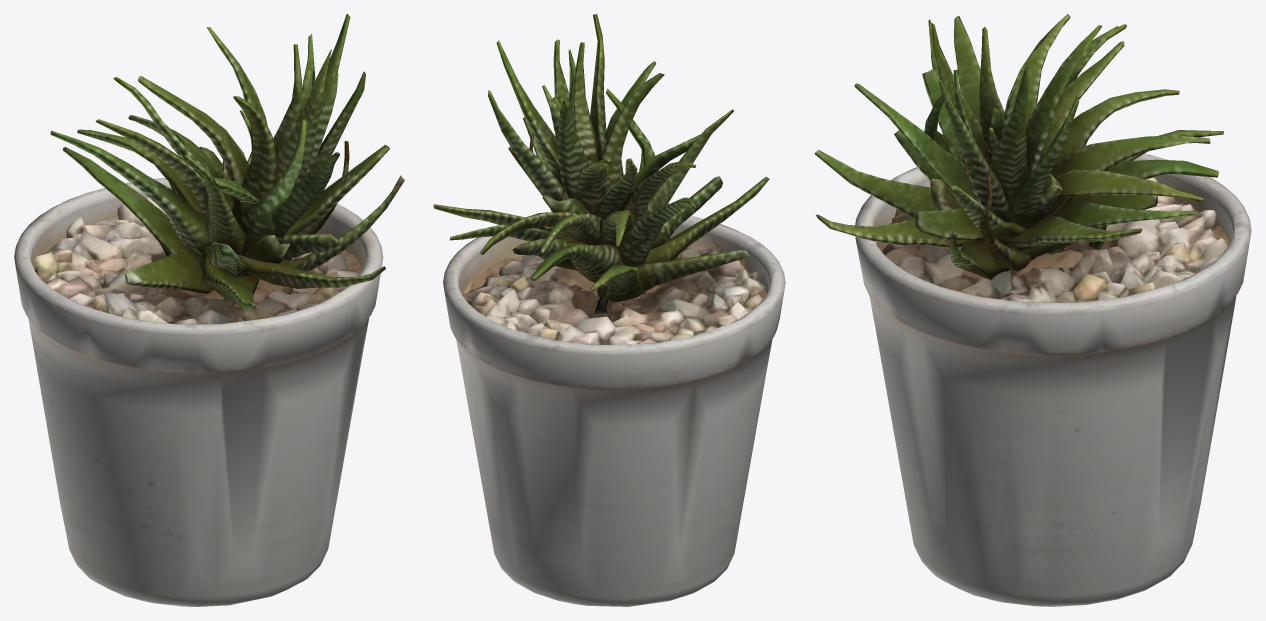
Rendered from potted_plant_04.glb.
3 renders of one model, left to right at view 1: azimuth 30°, elevation 25°; view 2: azimuth 150°, elevation 25°; view 3: azimuth 270°, elevation 25°, orthographic. The views are drawn at different scales.
Visible parts, largest first — view 1: potted_plant_04_ground; view 2: potted_plant_04_ground; view 3: potted_plant_04_ground.
Part boxes in pixels (box(x1,y1,x2,y2)): potted_plant_04_ground: box(14, 14, 404, 606); potted_plant_04_ground: box(433, 14, 785, 606); potted_plant_04_ground: box(814, 14, 1251, 606).
Size of the model in its own units: 0.1679 by 0.2672 by 0.1848.
1 material, 1 textured.
